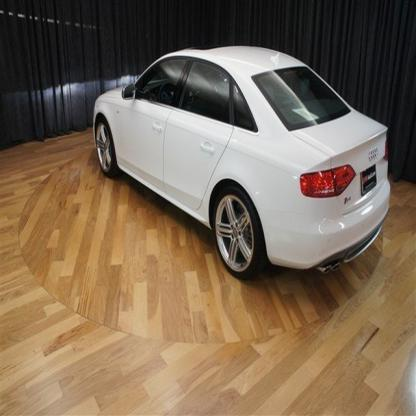Vehicle: (90, 44, 391, 281)
